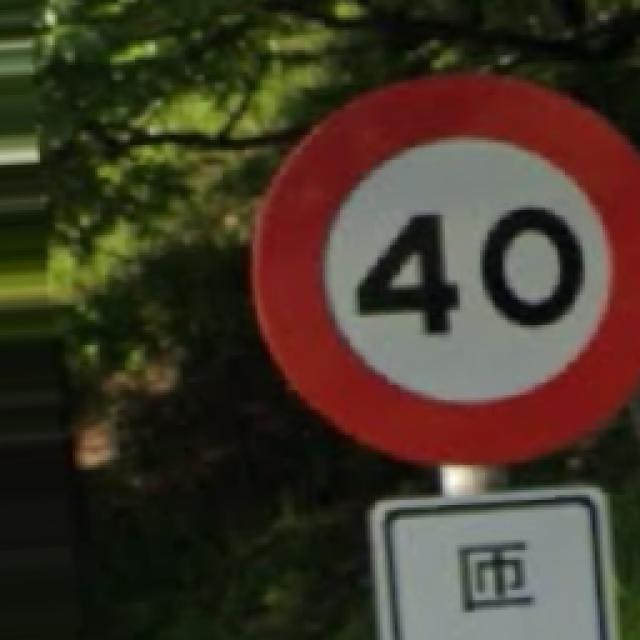Speed Limit -40-: (255, 75, 638, 462)
